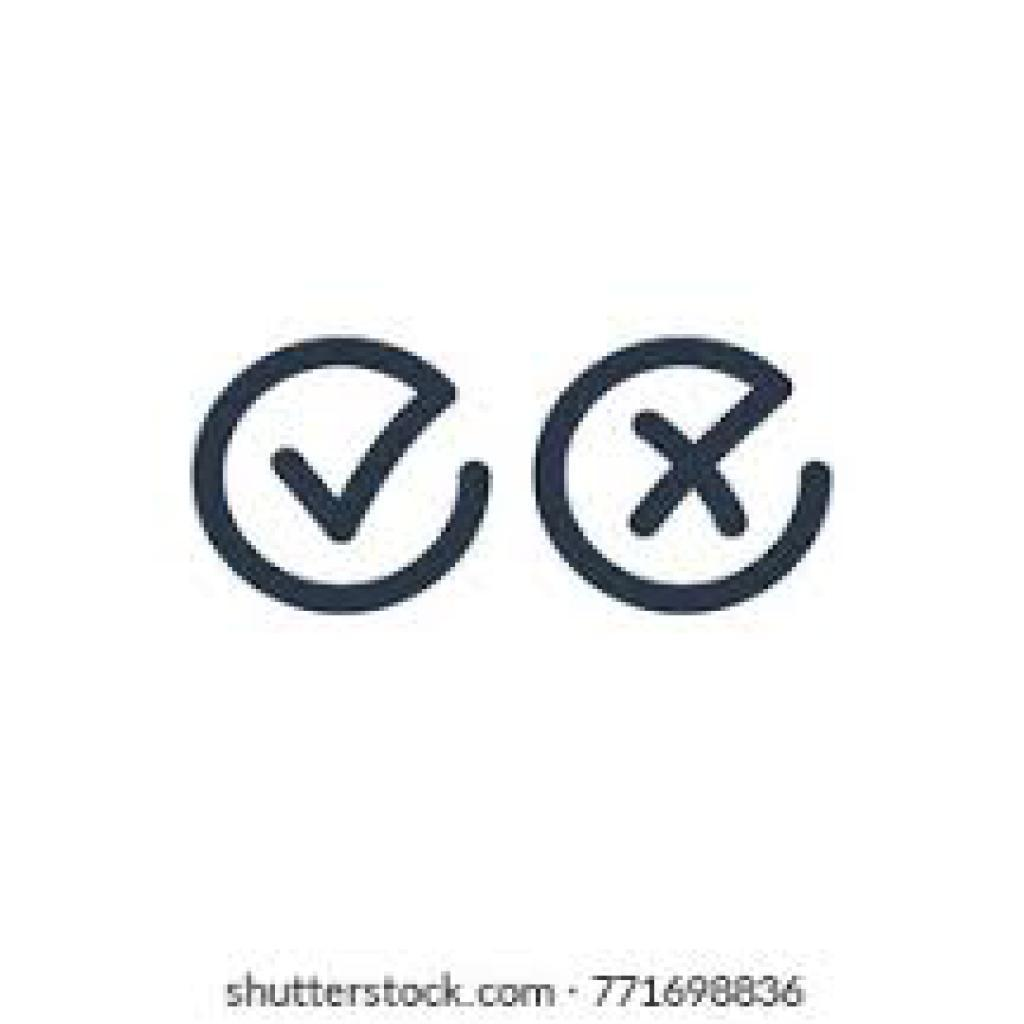checkbox: (181, 325, 502, 614), (529, 329, 838, 627)
